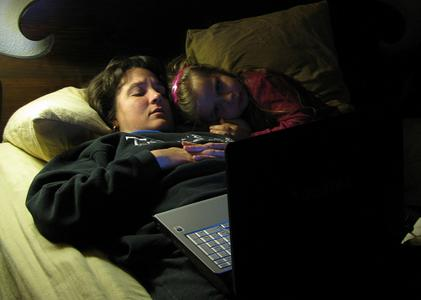person: (24, 55, 235, 298)
